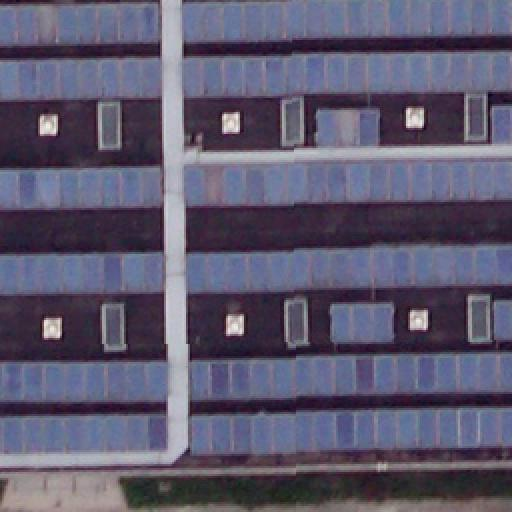solar-panel: (188, 406, 512, 458), (188, 352, 512, 404), (184, 159, 512, 209), (185, 243, 511, 293), (184, 50, 512, 98), (180, 1, 512, 47), (0, 165, 164, 211), (0, 360, 168, 404), (0, 1, 160, 47), (1, 252, 167, 296), (0, 415, 168, 457), (0, 58, 160, 102), (330, 304, 394, 344), (314, 108, 378, 148), (489, 106, 511, 146), (492, 302, 512, 342)
